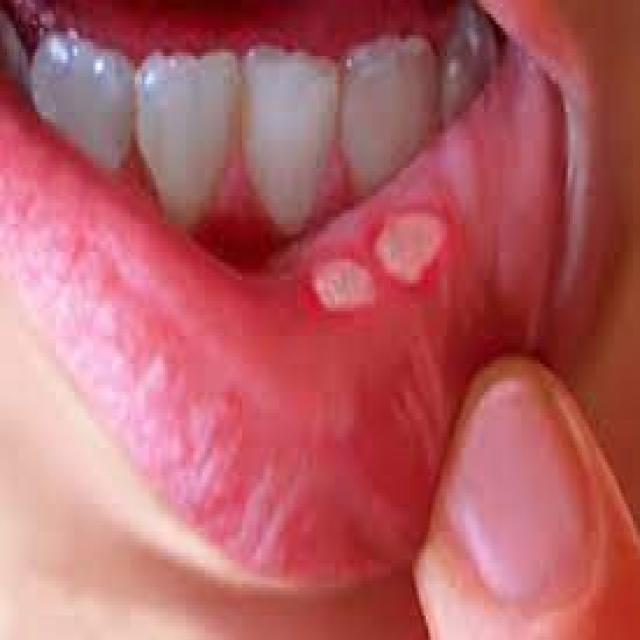processing_area: (6, 35, 604, 589)
ulcer-detection: (281, 170, 469, 366)
